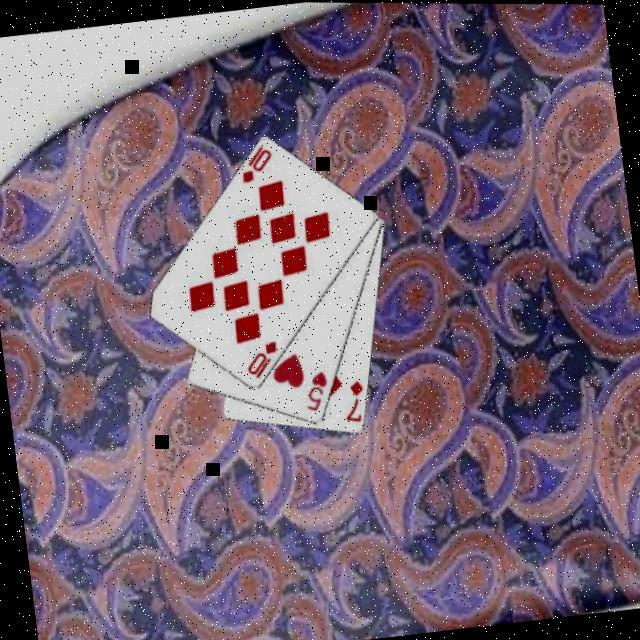10D: (238, 338, 282, 384), (232, 143, 276, 188)
5H: (298, 368, 330, 416)
7D: (336, 377, 368, 427)
